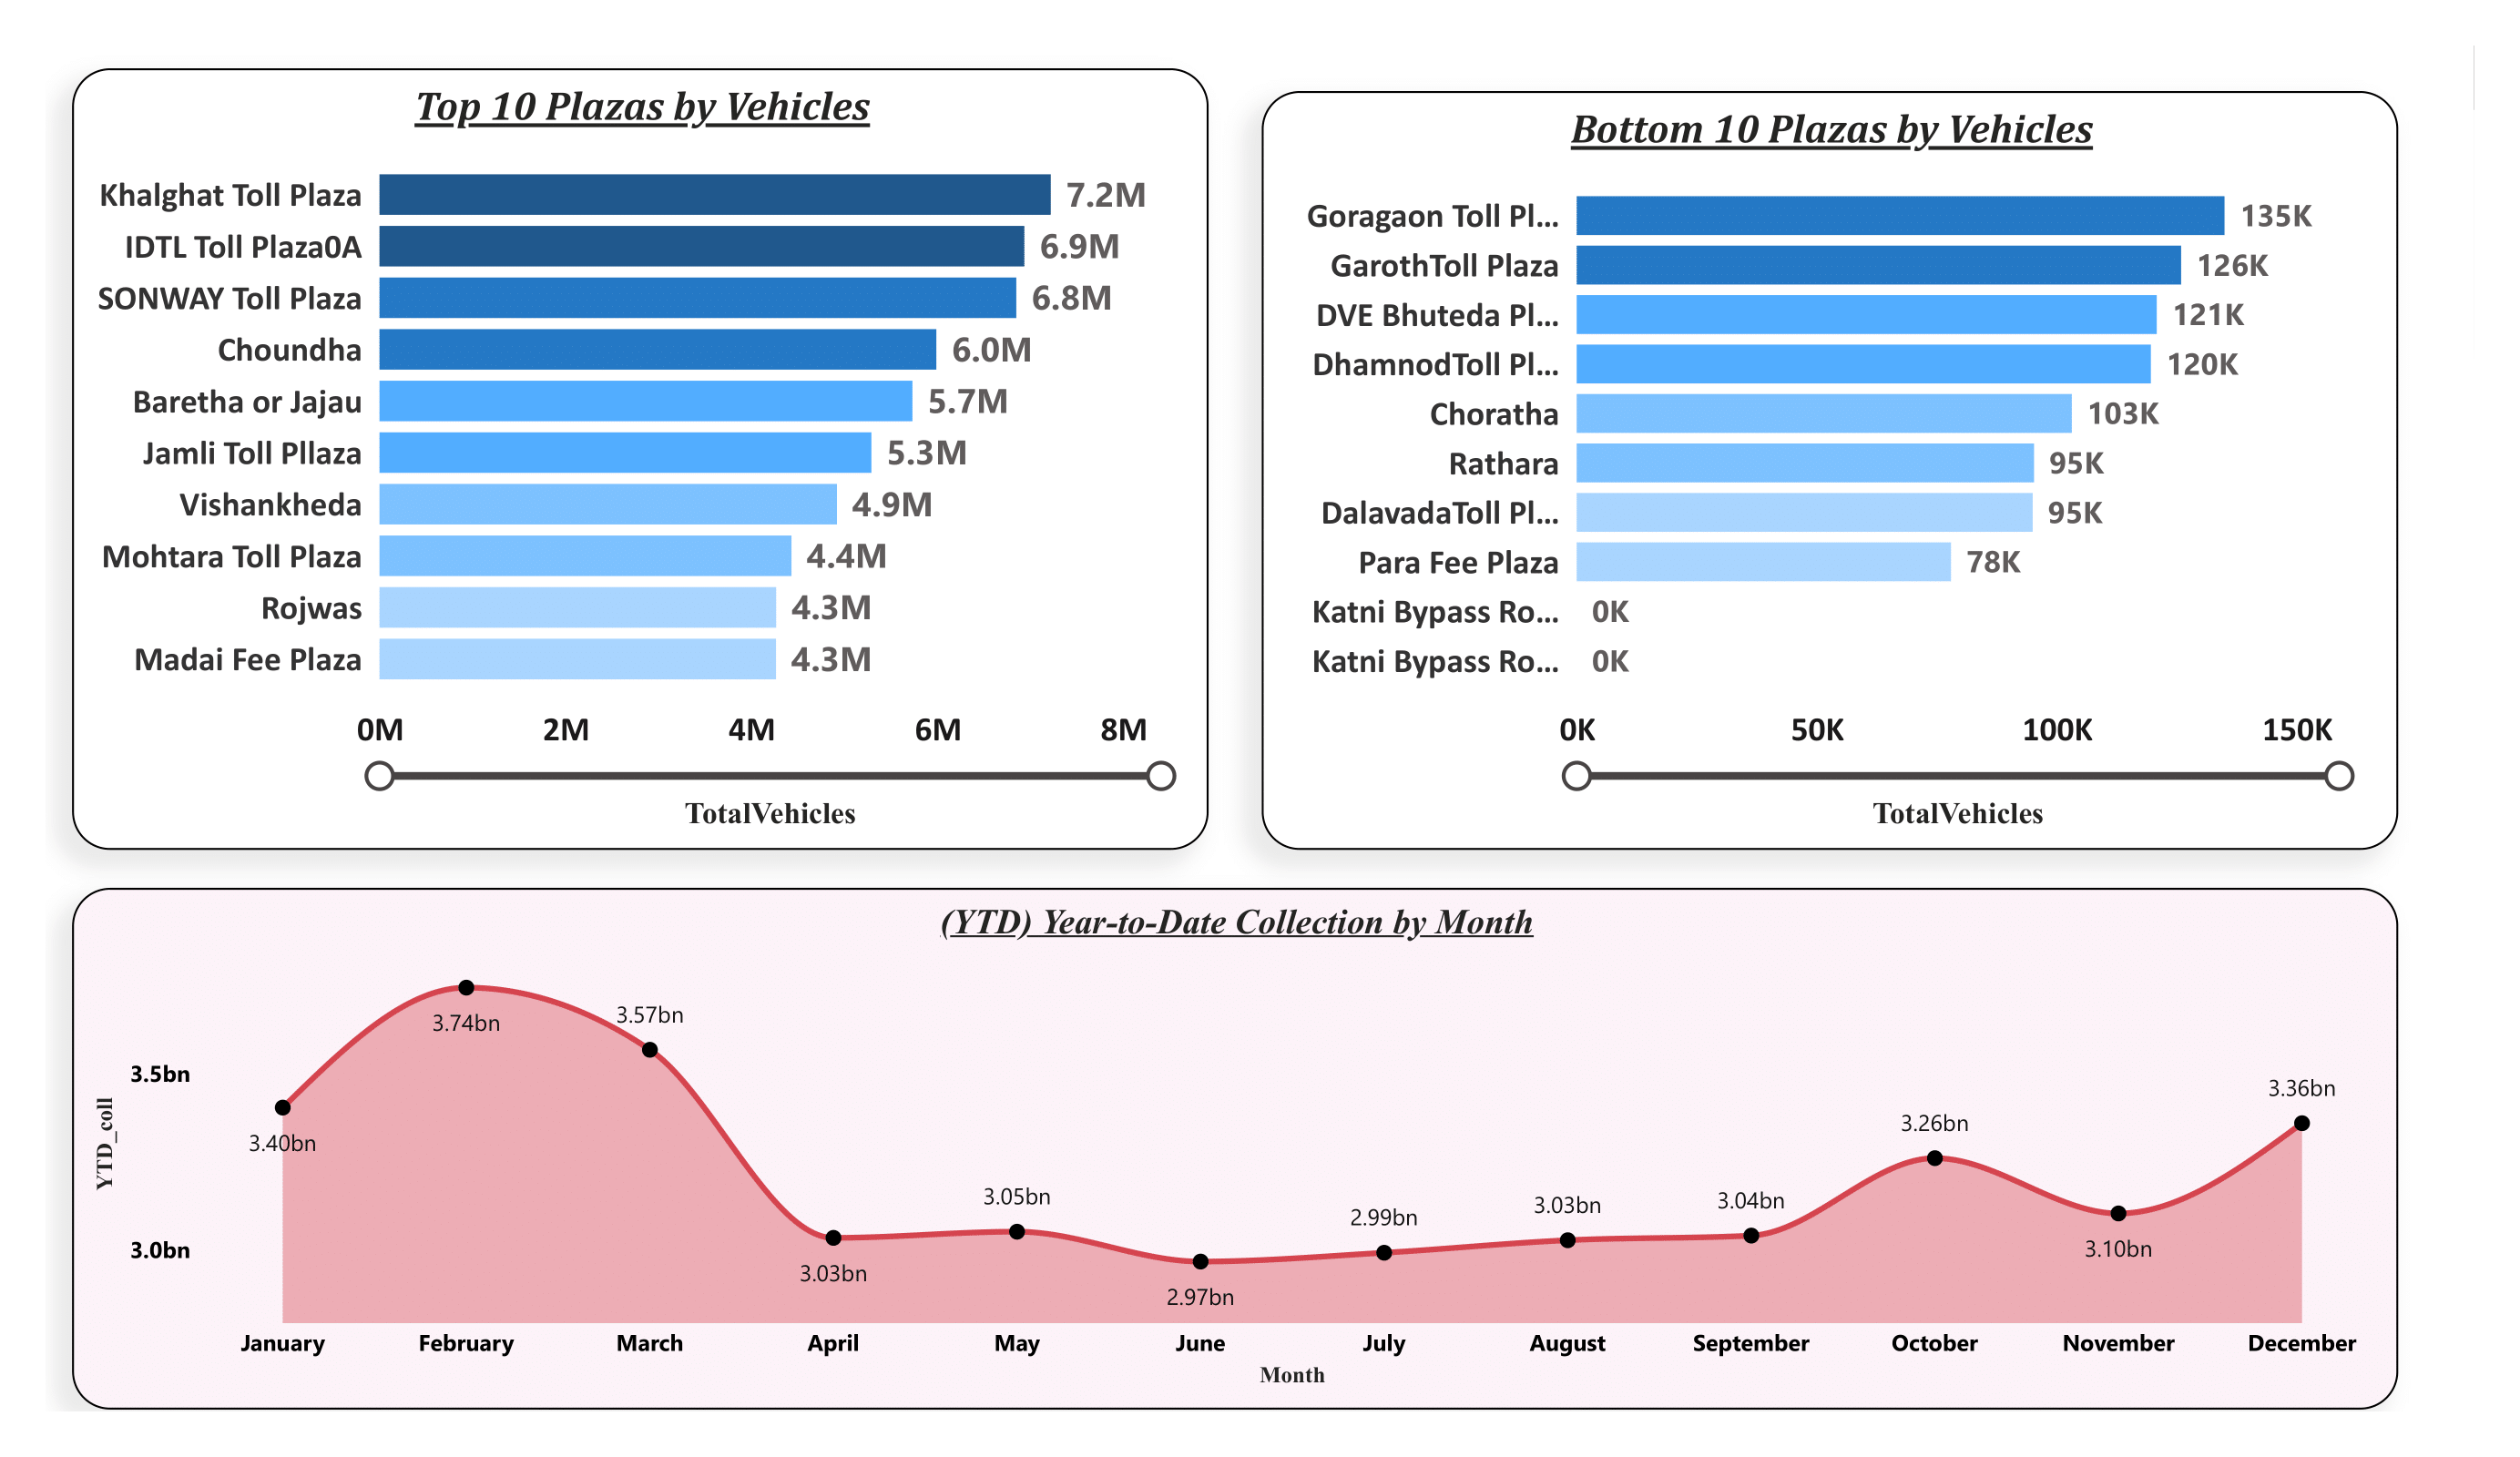

The dashboard page shown, as its layout file describes it:
{"tool":"powerbi","page":{"name":"Page 3","canvas":[1280,720],"ordinal":2},"visuals":[{"type":"clusteredBarChart","title":"Top 10 Plazas by Vehicles","fields":{"Category":["Toll data.Fee Plaza Name"],"Y":["Measure Table.TotalVehicles"]},"box":[13.6,12.1,599.6,411.9],"z":0},{"type":"clusteredBarChart","title":"Bottom 10 Plazas by Vehicles","fields":{"Category":["Toll data.Fee Plaza Name"],"Y":["Measure Table.TotalVehicles"]},"box":[640.5,24.2,599.6,399.8],"z":1000},{"type":"lineChart","title":"(YTD) Year-to-Date Collection by Month","fields":{"Category":["Toll data.Date.Variation.Date Hierarchy.Month"],"Y":["Measure Table.YTD_coll"]},"box":[13.6,443.7,1226.5,275.6],"z":2000}]}

Visuals, with their boxes in screenshot pixels (x1, y1, x2, y2):
"Top 10 Plazas by Vehicles" clusteredBarChart: box=[71, 68, 1209, 850]
"Bottom 10 Plazas by Vehicles" clusteredBarChart: box=[1261, 91, 2399, 850]
"(YTD) Year-to-Date Collection by Month" lineChart: box=[71, 887, 2399, 1411]
